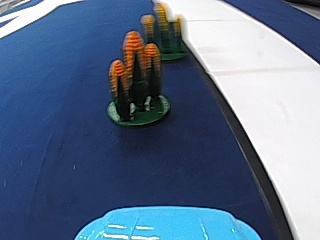corn: (105, 33, 166, 128), (136, 0, 188, 63)
